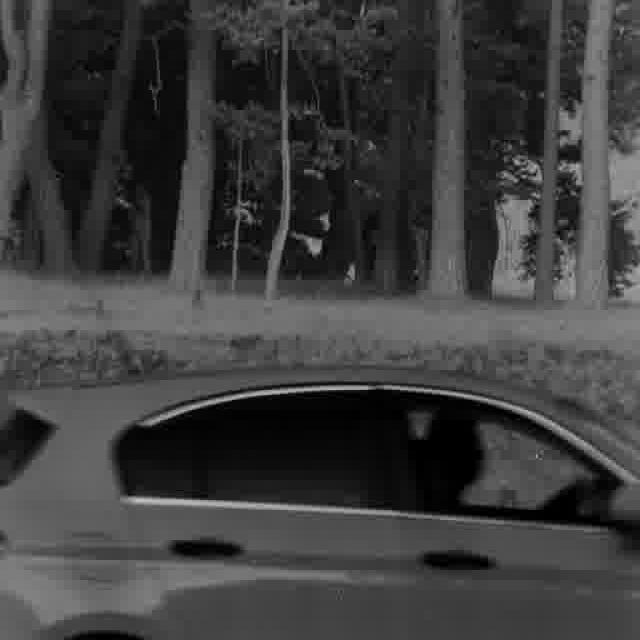Car: (2, 381, 640, 640)
